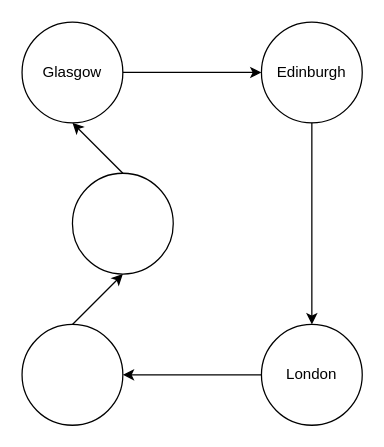
This 384x447 diagram has some shape labels left out. Here are the shapes that lost their labels. From the top down, the centre of each, then its label:
At (122,223): "Birmingham".
At (72,374): "Bristol".
